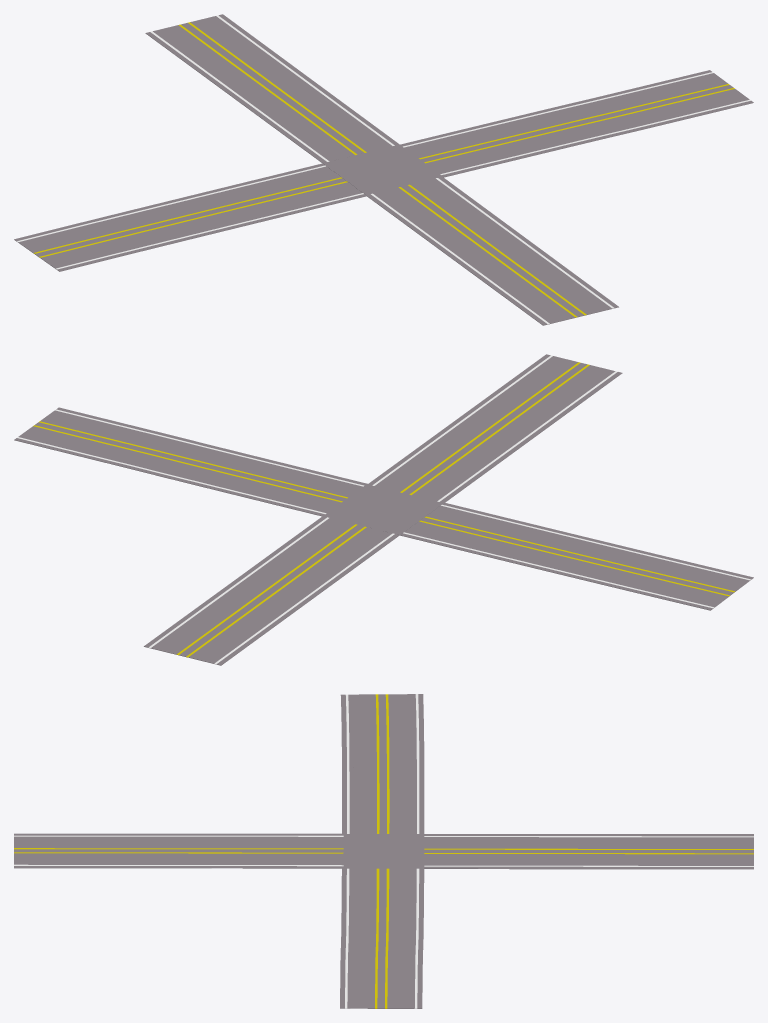
File: Road Test 2.fbx
The picture shows the model from 3 angles, top to bottom: view 1: azimuth 30°, elevation 25°; view 2: azimuth 150°, elevation 25°; view 3: azimuth 270°, elevation 25°; orthographic projection. The views are drawn at different scales.
Visible parts, largest first — view 1: Cube.003, Cube.001, Cube.004, Cube.002, Cube; view 2: Cube.001, Cube.003, Cube.004, Cube.002, Cube; view 3: Cube.002, Cube.004, Cube.001, Cube.003, Cube.
Part boxes in pixels (<box>): Cube.003: <box>14,163,366,271</box>; Cube.001: <box>400,70,753,177</box>; Cube.004: <box>145,14,399,163</box>; Cube.002: <box>366,177,618,325</box>; Cube: <box>323,144,443,194</box>; Cube.001: <box>14,407,366,516</box>; Cube.003: <box>400,503,753,610</box>; Cube.004: <box>144,516,399,665</box>; Cube.002: <box>368,354,622,502</box>; Cube: <box>323,483,443,534</box>; Cube.002: <box>14,833,343,868</box>; Cube.004: <box>424,834,753,869</box>; Cube.001: <box>340,868,424,1008</box>; Cube.003: <box>340,694,424,833</box>; Cube: <box>342,834,424,868</box>.
Bounding box in the file's own units: 45178 × 26.71 × 44913.
